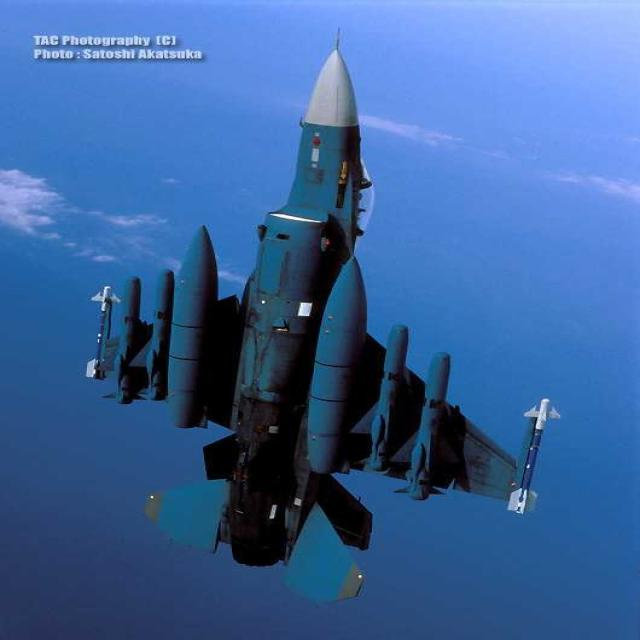missile: (398, 347, 462, 504), (504, 394, 558, 515), (368, 323, 404, 470), (115, 271, 146, 399), (157, 268, 179, 404), (90, 284, 116, 385)
